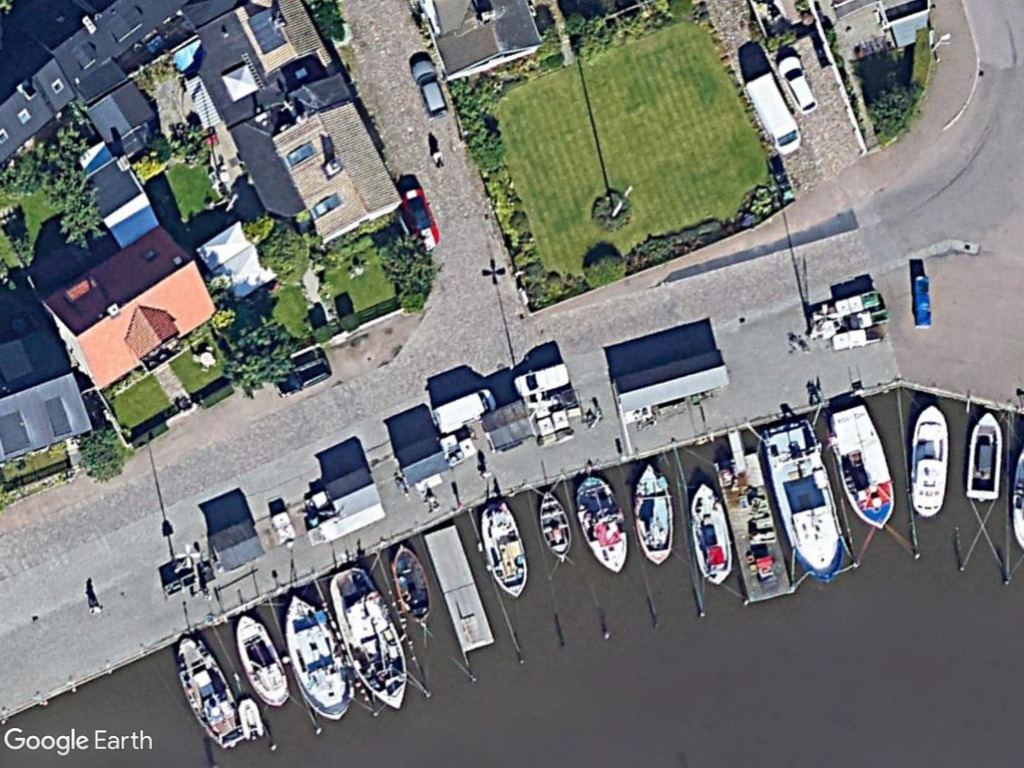boat: (762, 416, 843, 586), (328, 561, 412, 714), (823, 399, 897, 534), (282, 591, 358, 722), (173, 631, 252, 751), (231, 610, 290, 711), (477, 497, 533, 603), (575, 473, 630, 576), (905, 400, 952, 520), (685, 477, 733, 589), (631, 460, 677, 569), (960, 408, 1006, 506), (387, 541, 434, 627), (536, 486, 578, 565)
car: (776, 50, 820, 117), (409, 54, 452, 120), (509, 356, 571, 401)
van: (741, 67, 805, 162), (430, 384, 498, 440)
